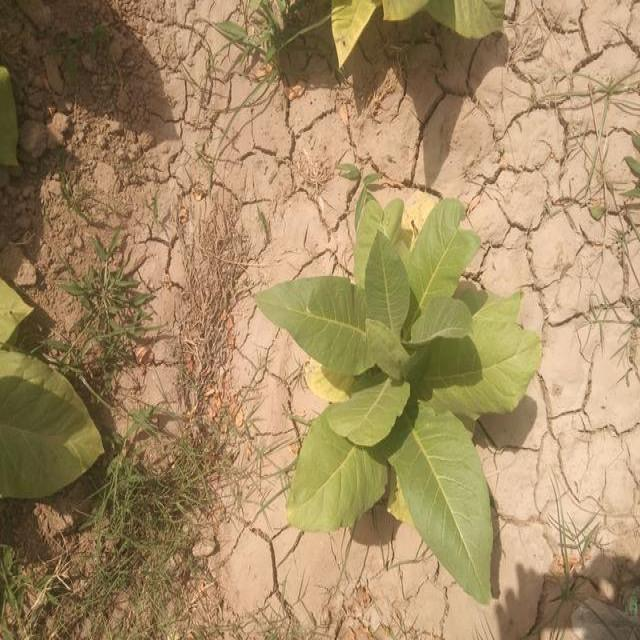crop: (266, 205, 534, 608), (0, 282, 100, 493)
